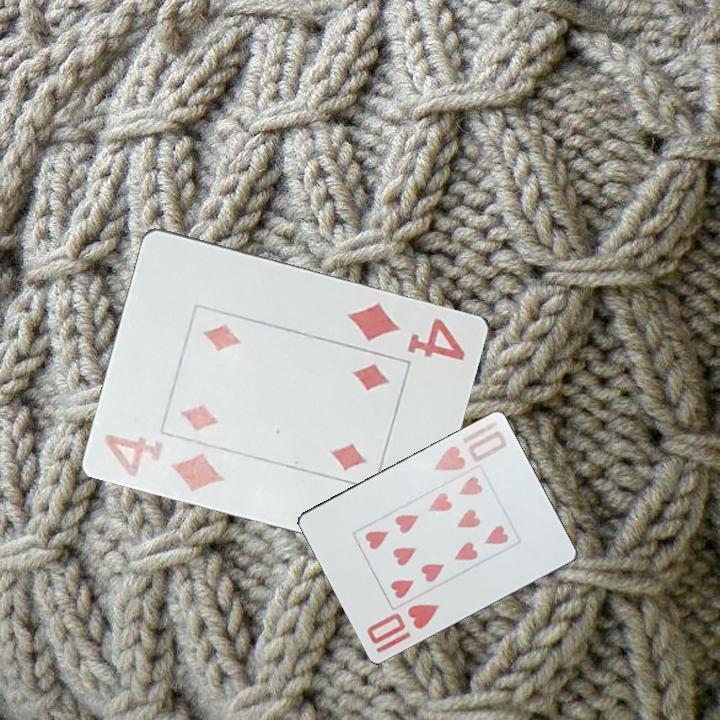4d: (101, 430, 228, 495), (344, 297, 469, 363)
Th: (430, 418, 510, 476), (363, 601, 443, 647)
